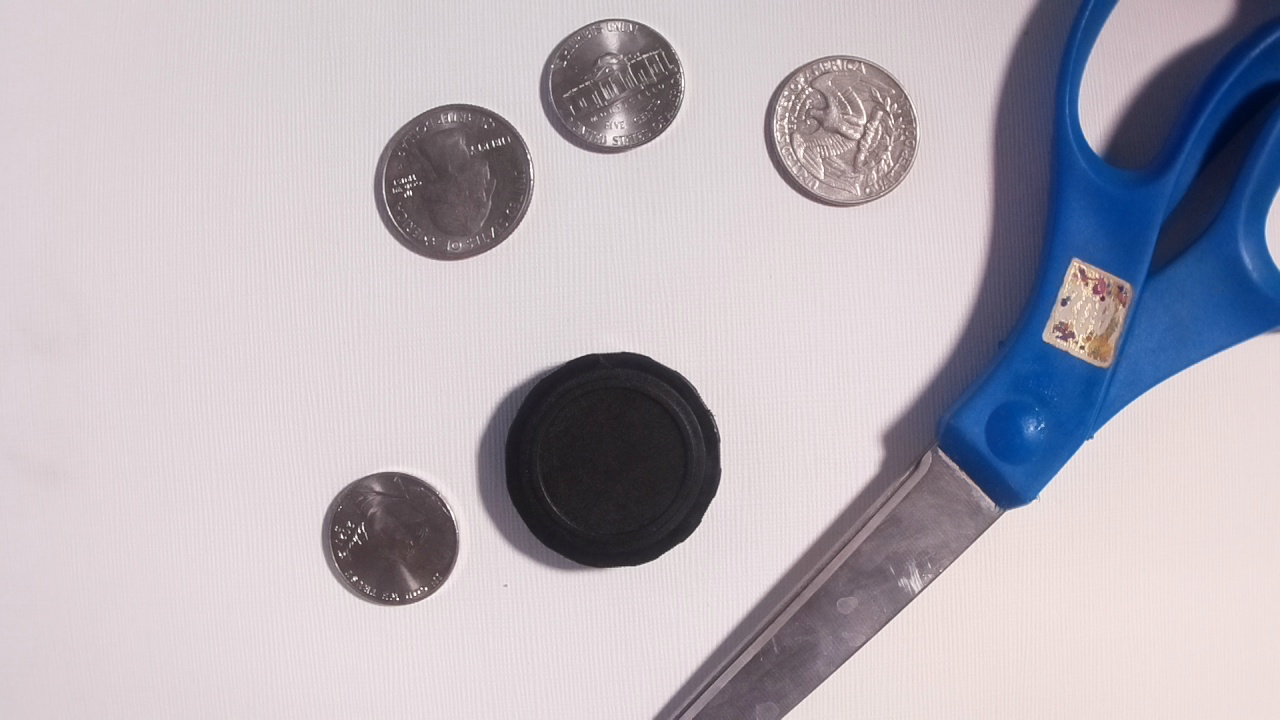nickel: (542, 17, 688, 154), (327, 469, 460, 609)
quarter: (379, 104, 534, 262), (768, 53, 920, 210)
